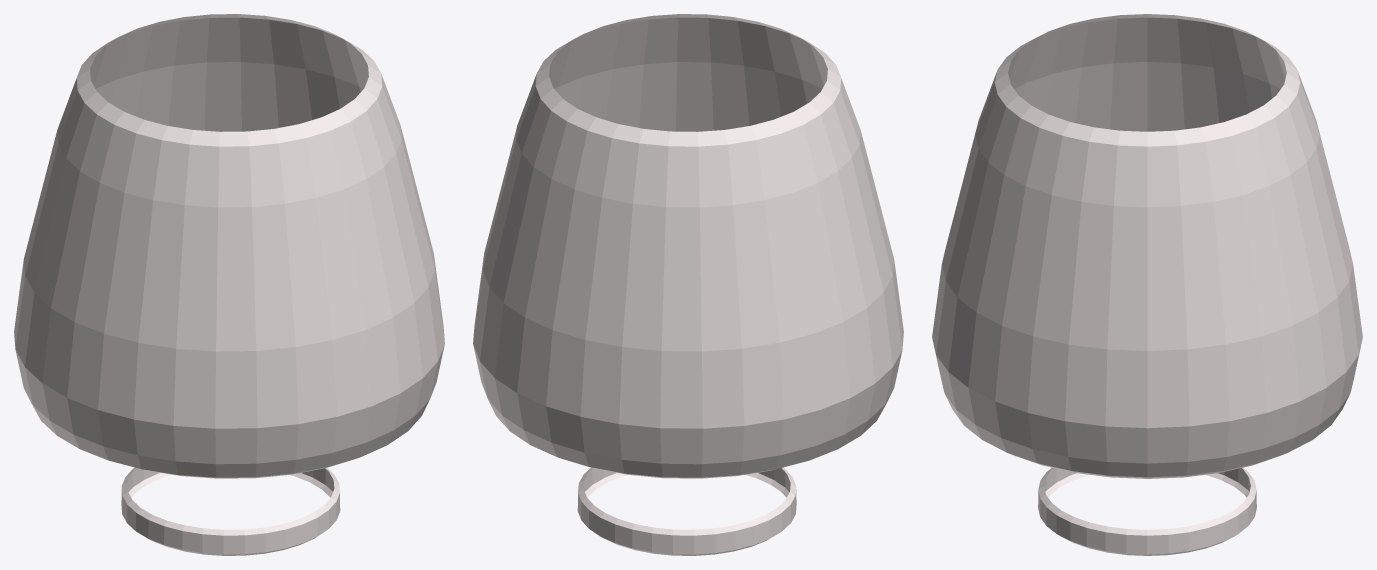
File: rocket_white.fbx
3 renders of one model, left to right at view 1: azimuth 30°, elevation 25°; view 2: azimuth 150°, elevation 25°; view 3: azimuth 270°, elevation 25°, orthographic.
Visible parts, largest first — view 1: 円柱; view 2: 円柱; view 3: 円柱.
Part boxes in pixels (x1,y1,x2,y2): 円柱: (14,14,444,555); 円柱: (473,14,903,555); 円柱: (932,14,1362,555).
Size of the model in its own units: 197 by 221 by 197.
Materials: 1 (1 with a texture image).
